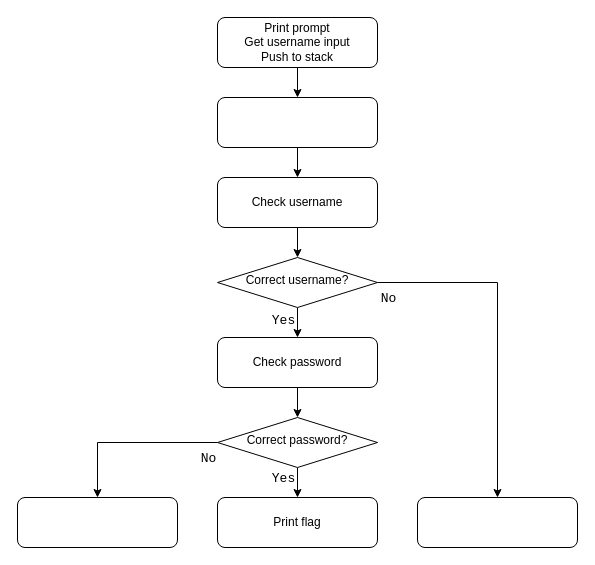
Some shapes in this 595 by 565 pixel diagram are drawn without their labels. The centre of each missing label's shape, as x and y in pixels:
Print incorrect password message: the point at 97,522
Print incorrect username message: the point at 497,522
Print prompt Get password input Push to stack: the point at 297,122
